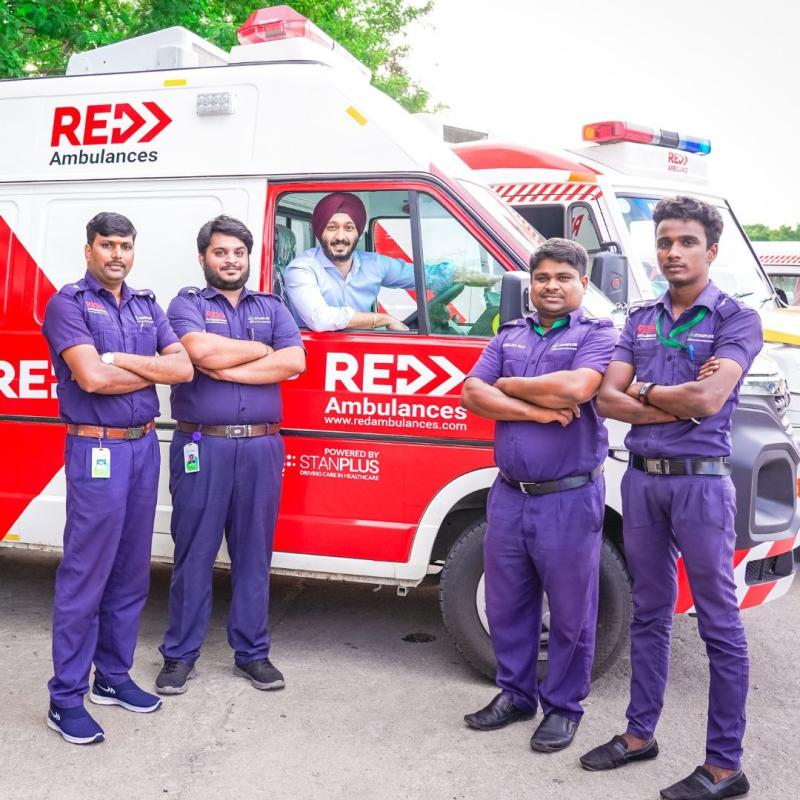AmbulanceSiren: (569, 104, 737, 171)
ambulance: (0, 0, 692, 690)
